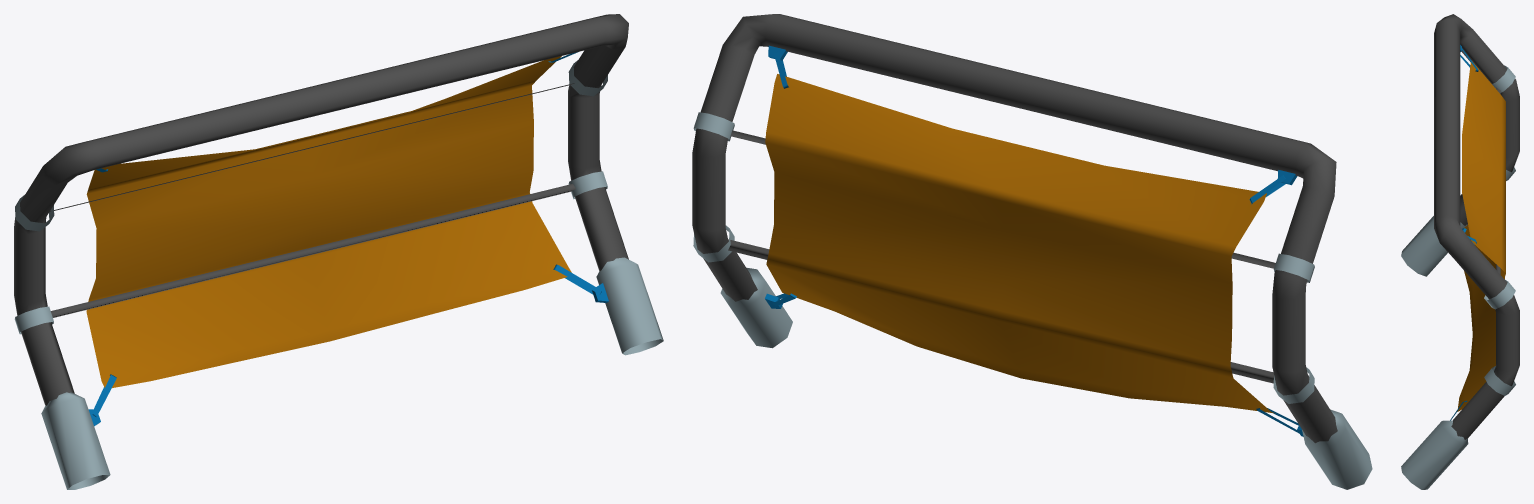
Rendered from env_building_warehouse01fence02B_lod1.fbx.
3 views of the same model, side by side, from view 1: azimuth 30°, elevation 25°; view 2: azimuth 150°, elevation 25°; view 3: azimuth 270°, elevation 25° (orthographic). The views are drawn at different scales.
Parts seen in each view (by area): view 1: env_building_warehouse01fence02B_lod1; view 2: env_building_warehouse01fence02B_lod1; view 3: env_building_warehouse01fence02B_lod1.
Boxes of the visible parts, bbox=[...] form: env_building_warehouse01fence02B_lod1: bbox=[14, 14, 663, 489]; env_building_warehouse01fence02B_lod1: bbox=[692, 14, 1372, 489]; env_building_warehouse01fence02B_lod1: bbox=[1401, 14, 1519, 489].
Bounding box in the file's own units: 61.65 × 33.14 × 13.54.
